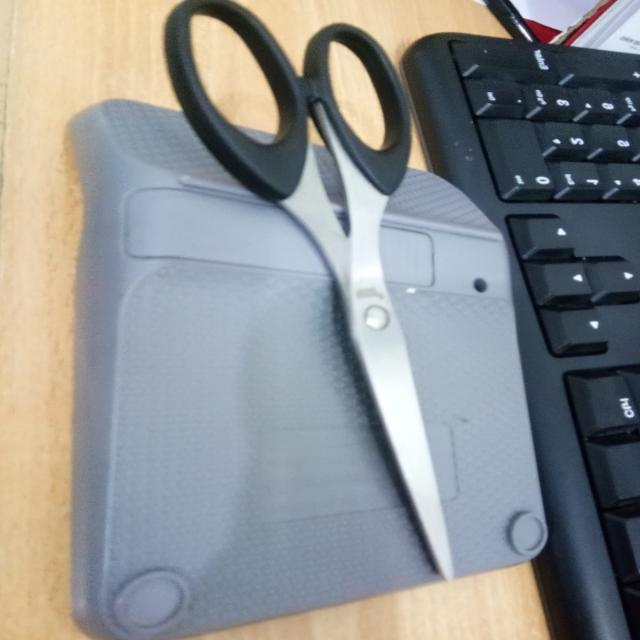scissors: (172, 13, 468, 573)
